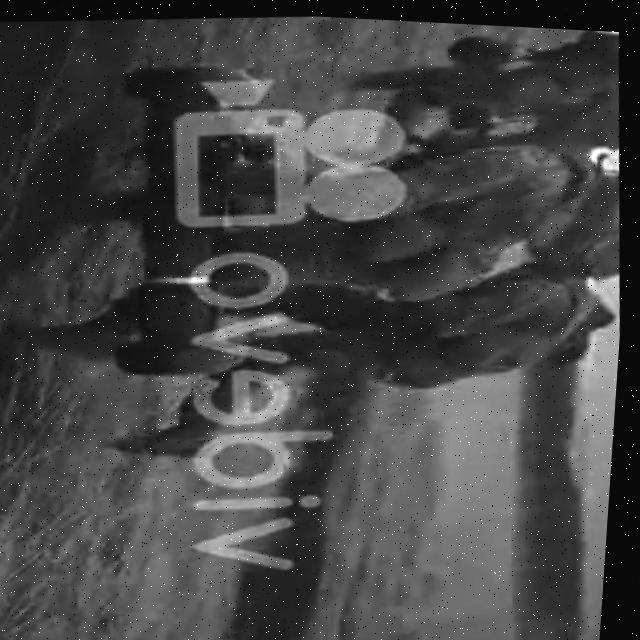rocket: (110, 60, 269, 376)
